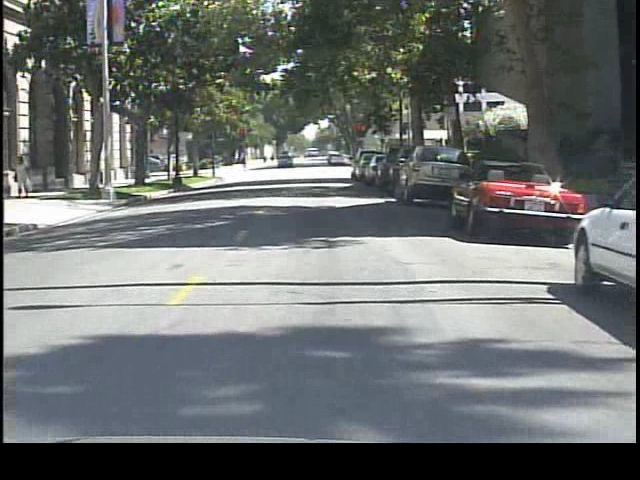person: (11, 152, 37, 196)
